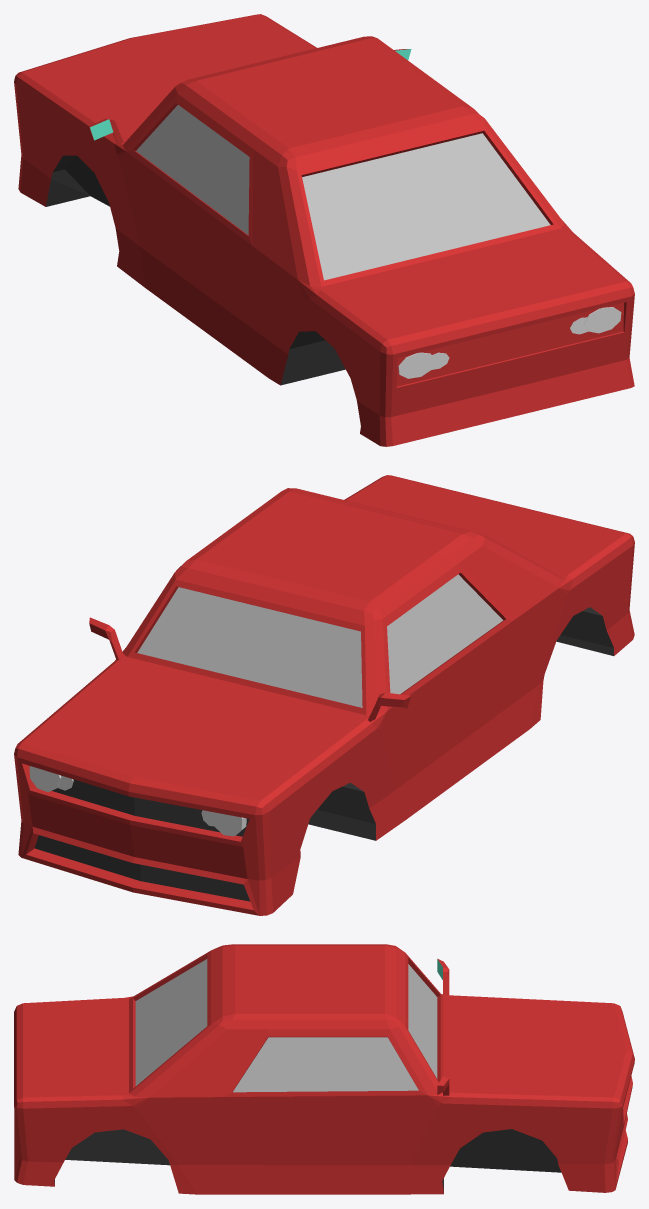
File: AIcar3.fbx
The picture shows the model from 3 angles, top to bottom: view 1: azimuth 30°, elevation 25°; view 2: azimuth 150°, elevation 25°; view 3: azimuth 270°, elevation 25°; orthographic projection. The views are drawn at different scales.
Visible parts, largest first — view 1: AIcar1; view 2: AIcar1; view 3: AIcar1.
Boxes of the visible parts, x1,y1,x2,y2 form: AIcar1: (14, 14, 634, 446); AIcar1: (14, 475, 634, 915); AIcar1: (14, 944, 634, 1194).
Size of the model in its own units: 4.37 by 2.62 by 9.03.
